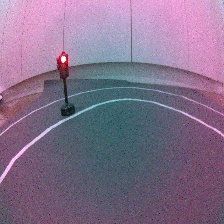red: (54, 50, 77, 118)
